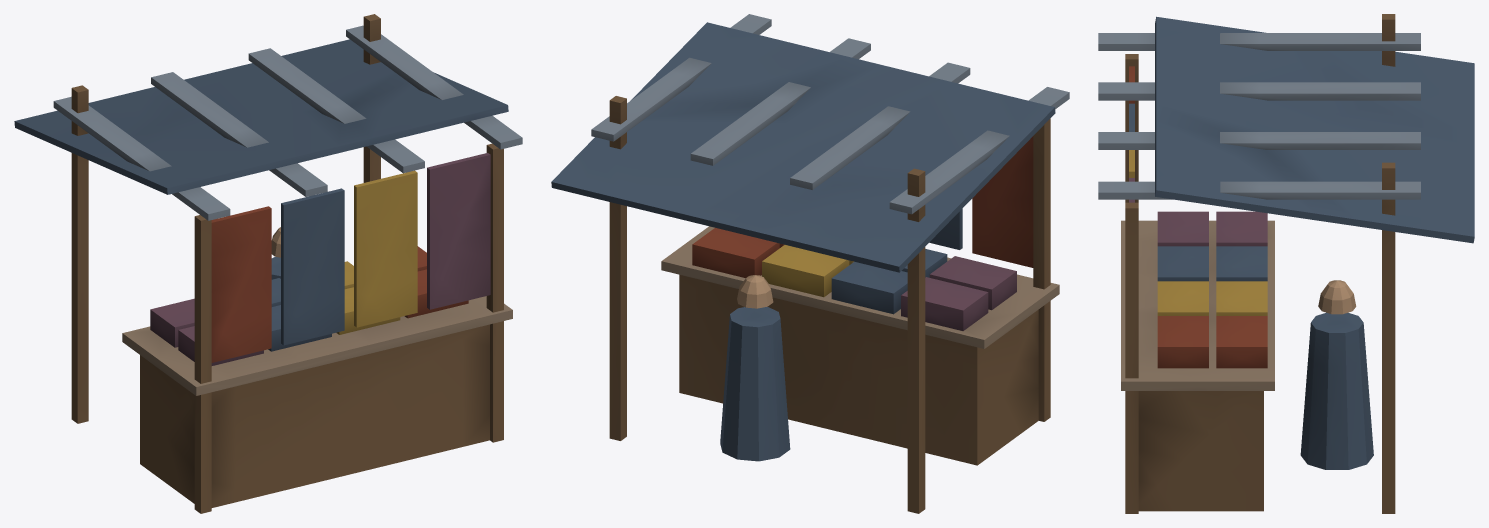
File: stall-cloth.glb
3 renders of one model, left to right at view 1: azimuth 30°, elevation 25°; view 2: azimuth 150°, elevation 25°; view 3: azimuth 270°, elevation 25°, orthographic. The views are drawn at different scales.
Parts seen in each view (by area): view 1: base; view 2: base; view 3: base.
Boxes of the visible parts, x1,y1,x2,y2 form: base: (14, 14, 522, 513); base: (551, 14, 1069, 513); base: (1098, 14, 1474, 513).
Size of the model in its own units: 2.8 by 2.6 by 2.57.
